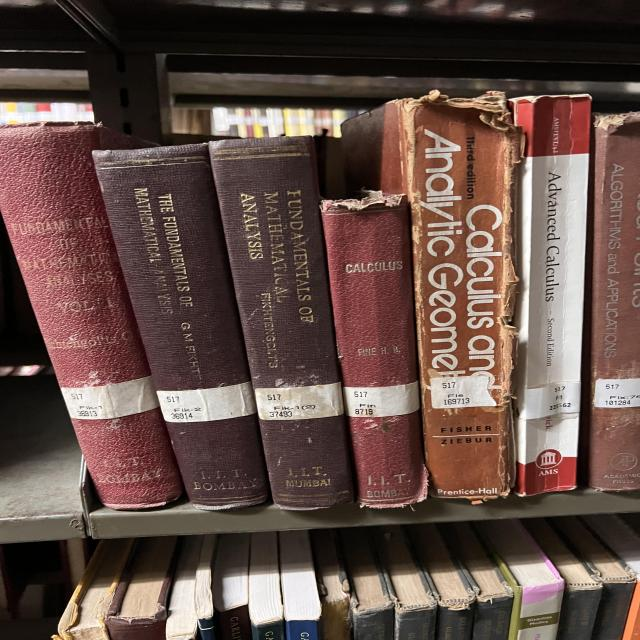Book: (343, 91, 525, 501), (0, 122, 182, 509), (93, 144, 268, 510), (208, 136, 353, 510), (322, 194, 427, 508), (510, 95, 590, 495), (588, 112, 640, 491)
Label: (62, 376, 158, 420), (157, 381, 257, 422), (255, 382, 343, 420), (343, 381, 420, 418), (517, 381, 580, 419), (430, 375, 497, 409), (593, 379, 640, 408)
